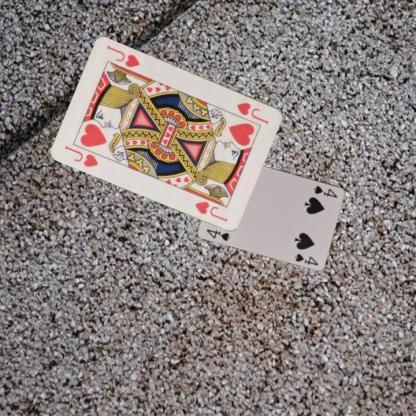4s: (204, 226, 232, 243), (312, 183, 338, 199)
Jh: (233, 99, 270, 126), (62, 142, 100, 168)
